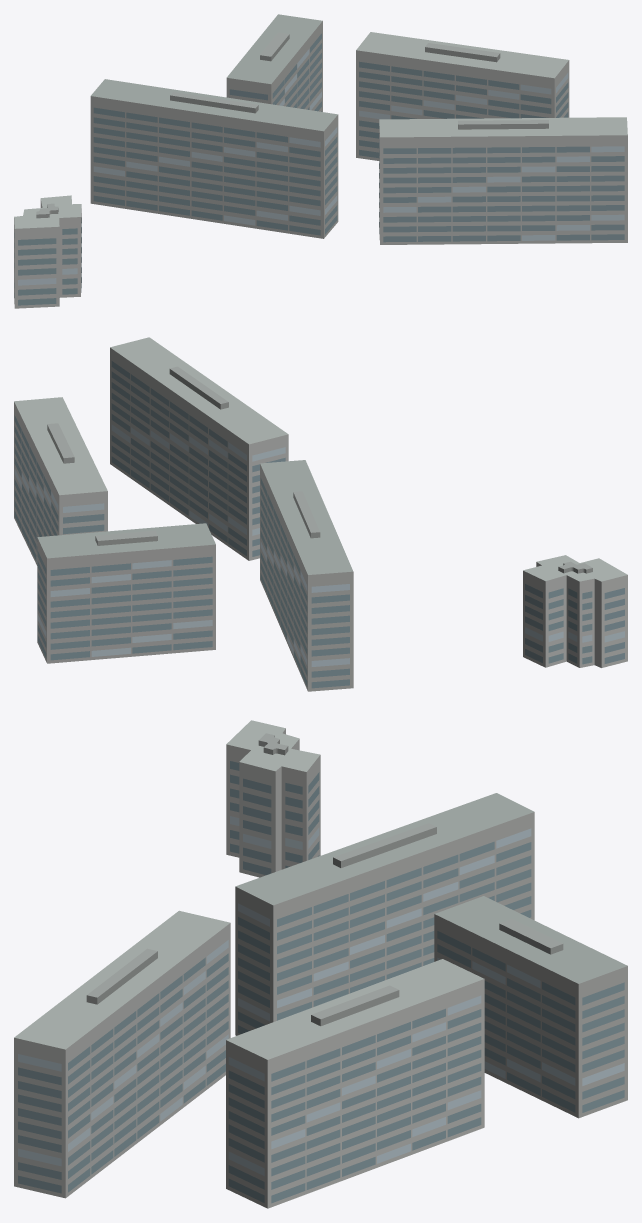
File: apt-a10024532.glb
The picture shows the model from 3 angles, top to bottom: view 1: azimuth 30°, elevation 25°; view 2: azimuth 150°, elevation 25°; view 3: azimuth 270°, elevation 25°; orthographic projection. The views are drawn at different scales.
Visible parts, largest first — view 1: apt-a10024532; view 2: apt-a10024532; view 3: apt-a10024532.
Boxes of the visible parts, left/top/right/bottom form: apt-a10024532: left=14, top=14, right=627, bottom=308; apt-a10024532: left=14, top=337, right=627, bottom=691; apt-a10024532: left=14, top=720, right=627, bottom=1208.
Bounding box in the file's own units: 161 × 31 × 111.
